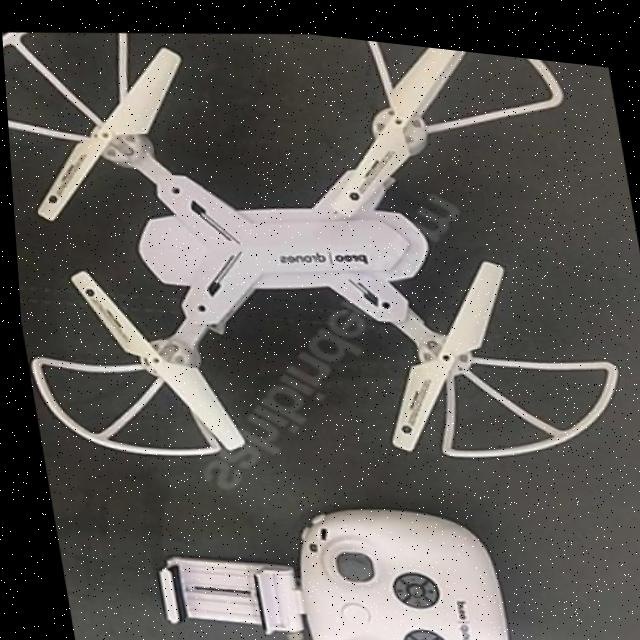drones: (0, 0, 640, 565)
